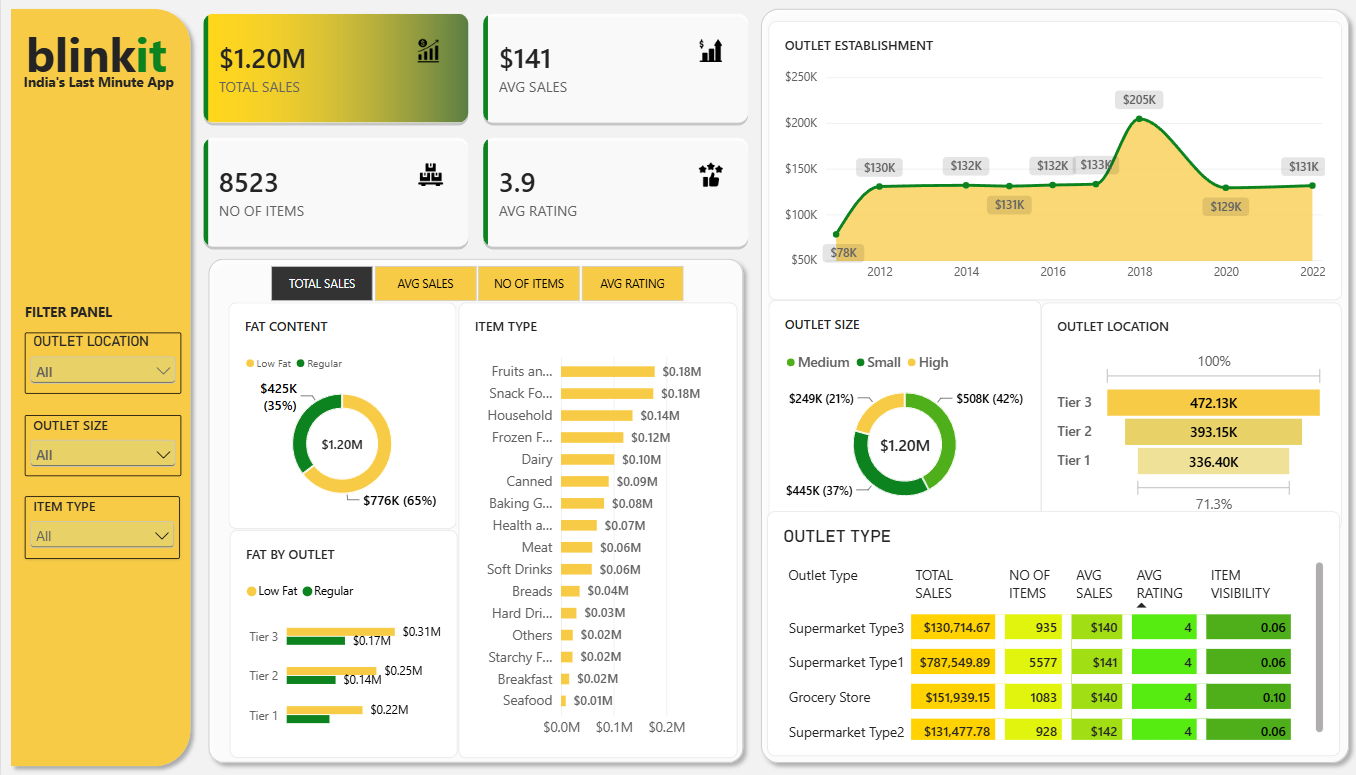

The page's visual inventory and layout, read from the dashboard file:
{"tool":"powerbi","page":{"name":"Page 1","canvas":[1400,800],"ordinal":0},"visuals":[{"type":"shape","box":[1.7,0,203.3,800],"z":0},{"type":"textbox","box":[26,21.7,162.9,74.3],"z":1000},{"type":"textbox","box":[23,75,161.4,27.1],"z":2000},{"type":"cardVisual","fields":{"Data":["BlinkIT Grocery Data.TOTAL SALES","BlinkIT Grocery Data.AVG SALES","BlinkIT Grocery Data.NO OF ITEMS","BlinkIT Grocery Data.AVG RATING"]},"box":[205,10,570,248.3],"z":3000},{"type":"shape","box":[205,258.3,570,538.3],"z":4000},{"type":"donutChart","title":"FAT CONTENT","fields":{"Category":["BlinkIT Grocery Data.Item Fat Content"],"Y":["BlinkIT Grocery Data.TOTAL SALES"]},"box":[235,311.7,235,233.3],"z":5000},{"type":"slicer","fields":{"Values":["Metrics.Metrics"]},"box":[258.3,271.7,465,40],"z":6000},{"type":"clusteredBarChart","title":"FAT BY OUTLET","fields":{"Category":["BlinkIT Grocery Data.Outlet Location Type"],"Series":["BlinkIT Grocery Data.Item Fat Content"],"Y":["BlinkIT Grocery Data.TOTAL SALES"]},"box":[236.7,546.7,235,235],"z":6001},{"type":"barChart","title":"ITEM TYPE","fields":{"Category":["BlinkIT Grocery Data.Item Type"],"Y":["BlinkIT Grocery Data.TOTAL SALES"]},"box":[471.7,311.7,288.3,470],"z":6002},{"type":"shape","box":[775,0,625,796.7],"z":6003},{"type":"lineChart","title":"OUTLET ESTABLISHMENT","fields":{"Category":["BlinkIT Grocery Data.Outlet Establishment Year"],"Y":["BlinkIT Grocery Data.TOTAL SALES"]},"box":[791.7,21.7,591.7,288.3],"z":6004},{"type":"donutChart","title":"OUTLET SIZE","fields":{"Category":["BlinkIT Grocery Data.Outlet Size"],"Y":["BlinkIT Grocery Data.TOTAL SALES"]},"box":[791.7,310,281.7,236.7],"z":6005},{"type":"funnel","title":"OUTLET LOCATION","fields":{"Category":["BlinkIT Grocery Data.Outlet Location Type"],"Y":["Sum(BlinkIT Grocery Data.Sales)"]},"box":[1073.3,311.7,310,235],"z":6006},{"type":"pivotTable","title":"OUTLET TYPE","fields":{"Rows":["BlinkIT Grocery Data.Outlet Type"],"Values":["BlinkIT Grocery Data.TOTAL SALES","BlinkIT Grocery Data.NO OF ITEMS","BlinkIT Grocery Data.AVG SALES","BlinkIT Grocery Data.AVG RATING","Avg(BlinkIT Grocery Data.Item Visibility)"]},"box":[791.7,545,591.7,235],"z":6007},{"type":"slicer","fields":{"Values":["BlinkIT Grocery Data.Outlet Location Type"]},"box":[25,343,161.7,63.3],"z":6008},{"type":"slicer","fields":{"Values":["BlinkIT Grocery Data.Outlet Size"]},"box":[25,428.3,161.7,63.3],"z":6009},{"type":"slicer","fields":{"Values":["BlinkIT Grocery Data.Item Type"]},"box":[25,511.7,160,65],"z":6010},{"type":"textbox","box":[25,311.7,300,20],"z":6011}]}

Visuals, with their boxes in screenshot pixels (x1, y1, x2, y2), scaled from the page's 1400x800 canvas onto the 1356x775 screenshot:
shape: 2, 0, 199, 774
textbox: 25, 21, 183, 93
textbox: 22, 73, 179, 99
cardVisual - BlinkIT Grocery Data.TOTAL SALES x BlinkIT Grocery Data.AVG SALES: 199, 10, 751, 250
shape: 199, 250, 751, 772
"FAT CONTENT" donutChart: 228, 302, 455, 528
slicer - Metrics.Metrics: 250, 263, 701, 302
"FAT BY OUTLET" clusteredBarChart: 229, 530, 457, 757
"ITEM TYPE" barChart: 457, 302, 736, 757
shape: 751, 0, 1355, 772
"OUTLET ESTABLISHMENT" lineChart: 767, 21, 1340, 300
"OUTLET SIZE" donutChart: 767, 300, 1040, 530
"OUTLET LOCATION" funnel: 1040, 302, 1340, 530
"OUTLET TYPE" pivotTable: 767, 528, 1340, 756
slicer - BlinkIT Grocery Data.Outlet Location Type: 24, 332, 181, 394
slicer - BlinkIT Grocery Data.Outlet Size: 24, 415, 181, 476
slicer - BlinkIT Grocery Data.Item Type: 24, 496, 179, 559
textbox: 24, 302, 315, 321
